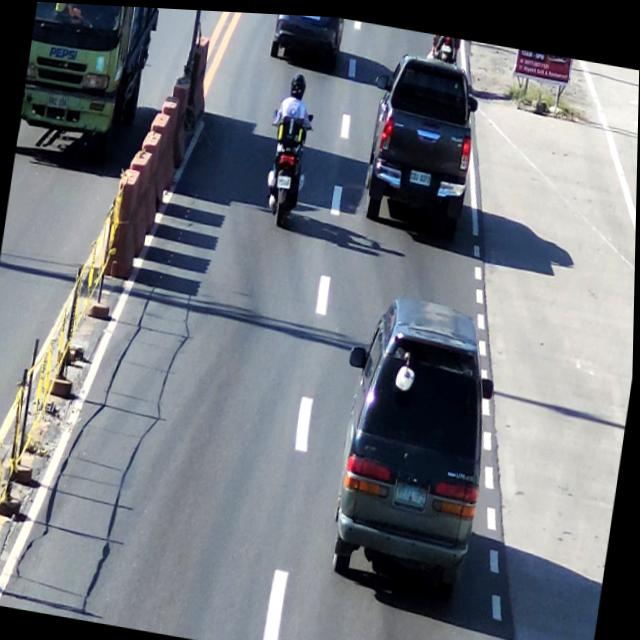Car: (326, 290, 506, 598), (360, 43, 481, 229), (266, 11, 347, 63)
License-Plate: (394, 472, 432, 508), (406, 163, 435, 190), (45, 92, 71, 110), (274, 166, 293, 190), (297, 12, 321, 18)
Motorcycle: (256, 89, 319, 231), (425, 29, 463, 63)
